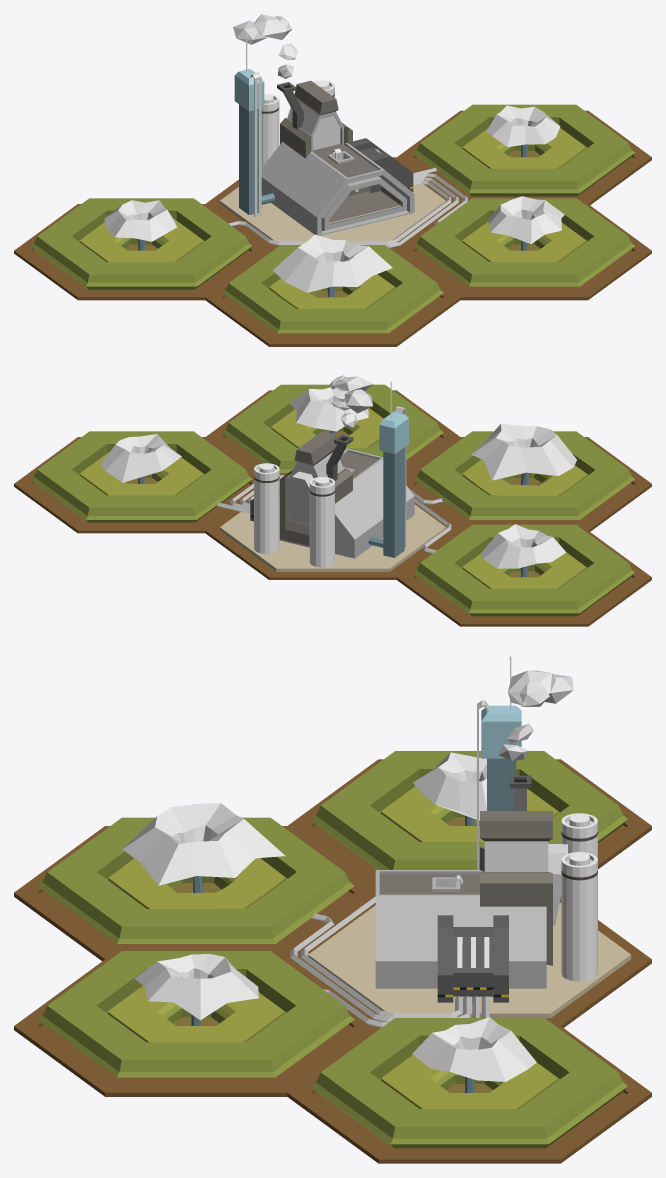
File: FARM.fbx
3 renders of one model, top to bottom at view 1: azimuth 30°, elevation 25°; view 2: azimuth 150°, elevation 25°; view 3: azimuth 270°, elevation 25°, orthographic. The views are drawn at different scales.
Visible parts, largest first — view 1: Cylinder.004, Cylinder.001, Cylinder.005, Cylinder.002, Cube, Cylinder.007, Cube.001, Cube.003, Cylinder.008, Cylinder.010, Cylinder.009, Cylinder.014 (+5 smaller); view 2: Cylinder.004, Cylinder.001, Cylinder.002, Cylinder.005, Cube, Cylinder.007, Cube.001, Cube.003, Cylinder.009, Cylinder.010, Cylinder.006, Cylinder.003 (+5 smaller); view 3: Cylinder.004, Cylinder.001, Cylinder.005, Cylinder.002, Cube, Cylinder.007, Cube.001, Cube.002, Cylinder.010, Cylinder.008, Cylinder.006, Cylinder.014 (+4 smaller).
Part boxes in pixels (x1,y1,x2,y2): Cylinder.004: (31, 104, 635, 289); Cylinder.001: (14, 110, 651, 346); Cylinder.005: (414, 198, 634, 286); Cylinder.002: (222, 245, 443, 333); Cube: (261, 142, 414, 235); Cylinder.007: (273, 234, 392, 292); Cube.001: (280, 80, 352, 158); Cube.003: (234, 69, 274, 214); Cylinder.008: (487, 196, 564, 243); Cylinder.010: (486, 105, 560, 146); Cylinder.009: (104, 200, 177, 241); Cylinder.014: (228, 167, 467, 248); Cylinder.004: (31, 431, 635, 616); Cylinder.001: (14, 390, 651, 626); Cylinder.002: (413, 431, 634, 519); Cylinder.005: (222, 384, 443, 472); Cube: (279, 448, 414, 558); Cylinder.007: (471, 423, 576, 480); Cube.001: (280, 431, 352, 546); Cube.003: (368, 411, 408, 557); Cylinder.009: (480, 524, 566, 568); Cylinder.010: (100, 434, 181, 482); Cylinder.006: (254, 463, 279, 553); Cylinder.003: (309, 477, 334, 567); Cylinder.004: (311, 751, 627, 1148); Cylinder.001: (14, 759, 651, 1163); Cylinder.005: (38, 951, 354, 1077); Cylinder.002: (38, 817, 354, 943); Cube: (375, 870, 546, 988); Cylinder.007: (122, 803, 285, 885); Cube.001: (480, 811, 567, 965); Cube.002: (437, 915, 508, 1002); Cylinder.010: (412, 1017, 536, 1081); Cylinder.008: (134, 954, 258, 1020); Cylinder.006: (561, 852, 597, 981); Cylinder.014: (290, 896, 489, 1027).
Bounding box in the file's own units: 494 × 150 × 333.
